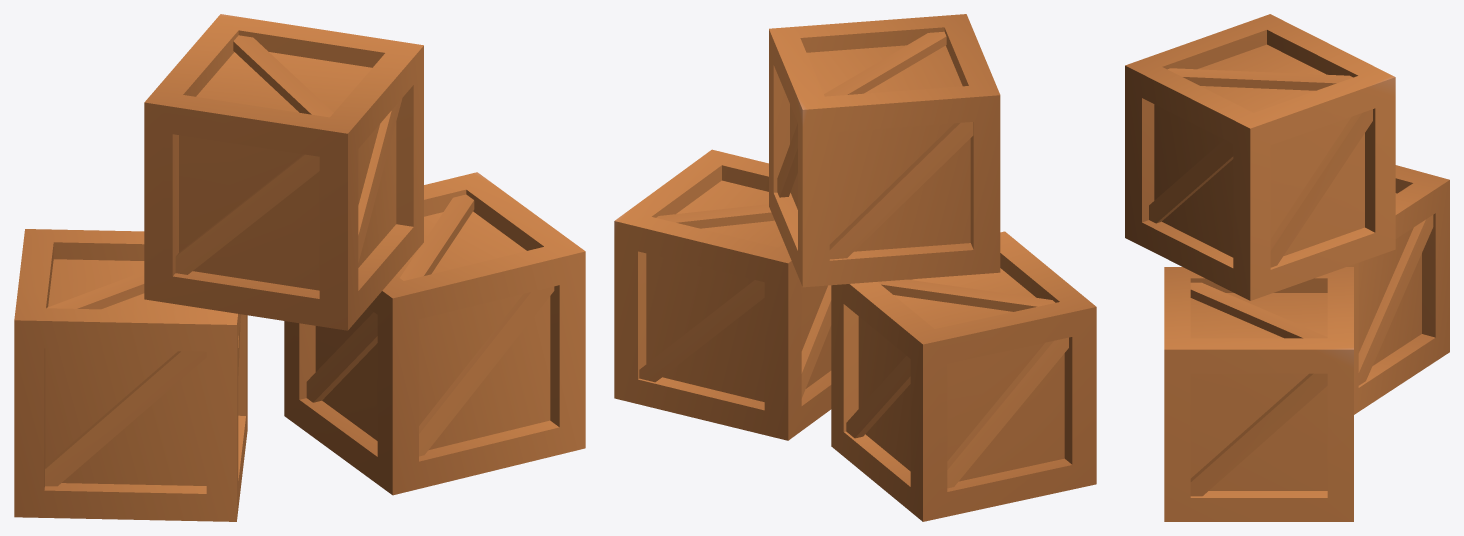
File: Boxes.FBX
3 views of the same model, side by side, from view 1: azimuth 30°, elevation 25°; view 2: azimuth 150°, elevation 25°; view 3: azimuth 270°, elevation 25° (orthographic). The views are drawn at different scales.
Parts seen in each view (by area): view 1: pasted__Crate2, pasted__Crate, pasted__Crate1; view 2: pasted__Crate1, pasted__Crate2, pasted__Crate; view 3: pasted__Crate2, pasted__Crate, pasted__Crate1.
Boxes of the visible parts, x1,y1,x2,y2 form: pasted__Crate2: [144, 14, 423, 330]; pasted__Crate: [284, 172, 585, 495]; pasted__Crate1: [14, 229, 247, 521]; pasted__Crate1: [831, 231, 1096, 521]; pasted__Crate2: [769, 14, 1000, 287]; pasted__Crate: [614, 149, 831, 440]; pasted__Crate2: [1125, 14, 1395, 300]; pasted__Crate: [1164, 267, 1353, 521]; pasted__Crate1: [1347, 165, 1449, 414].
Size of the model in its own units: 35.85 by 27.07 by 23.09.
